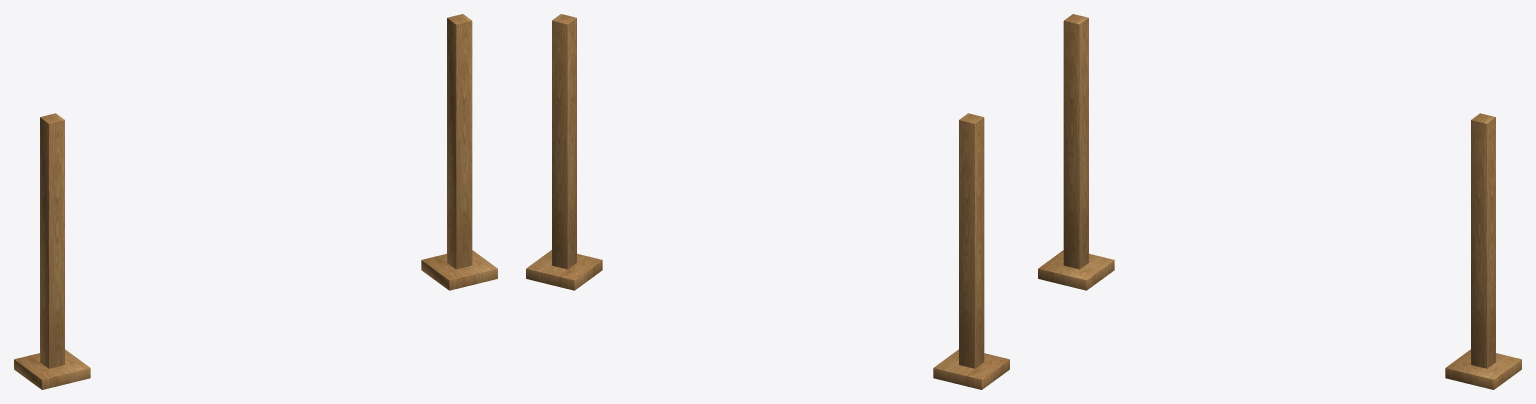
Rendered from SER-EPC-001_anim.glb.
3 renders of one model, left to right at view 1: azimuth 30°, elevation 25°; view 2: azimuth 150°, elevation 25°; view 3: azimuth 330°, elevation 25°, orthographic.
Visible parts, largest first — view 1: SER-EPC-001_anim0; view 2: SER-EPC-001_anim0; view 3: SER-EPC-001_anim0.
Part boxes in pixels (box(x1,y1,x2,y2)): SER-EPC-001_anim0: box(14, 14, 497, 389); SER-EPC-001_anim0: box(526, 14, 1009, 389); SER-EPC-001_anim0: box(1038, 14, 1521, 389).
Size of the model in its own units: 2.24 by 1.2 by 0.24.
2 materials, 1 textured.
